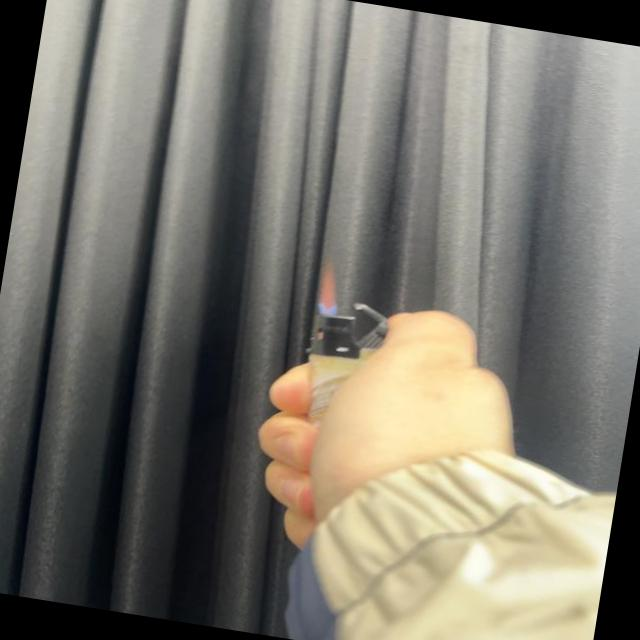Fire: (314, 260, 346, 314)
